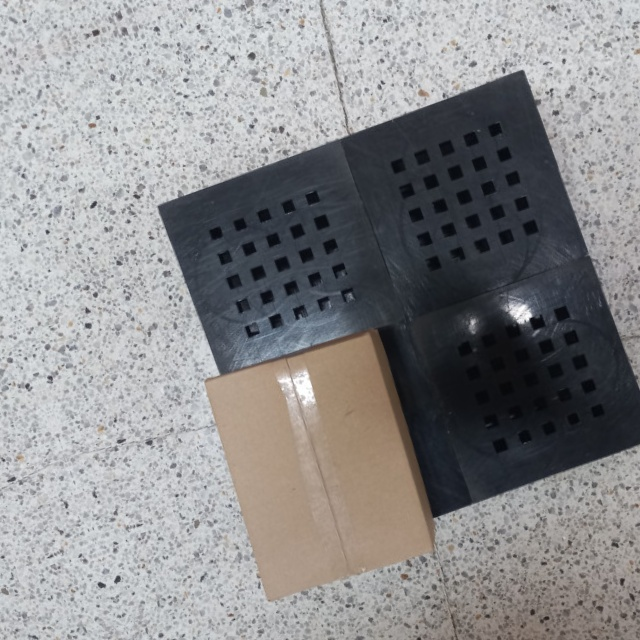box: (201, 327, 438, 605)
pallet: (148, 55, 640, 563)
